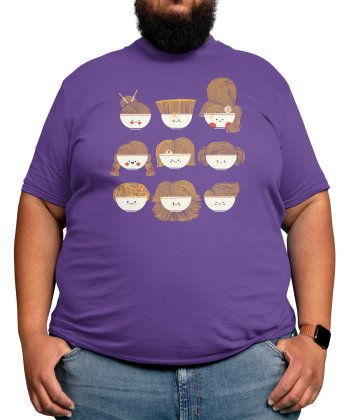design: (107, 74, 248, 225)
